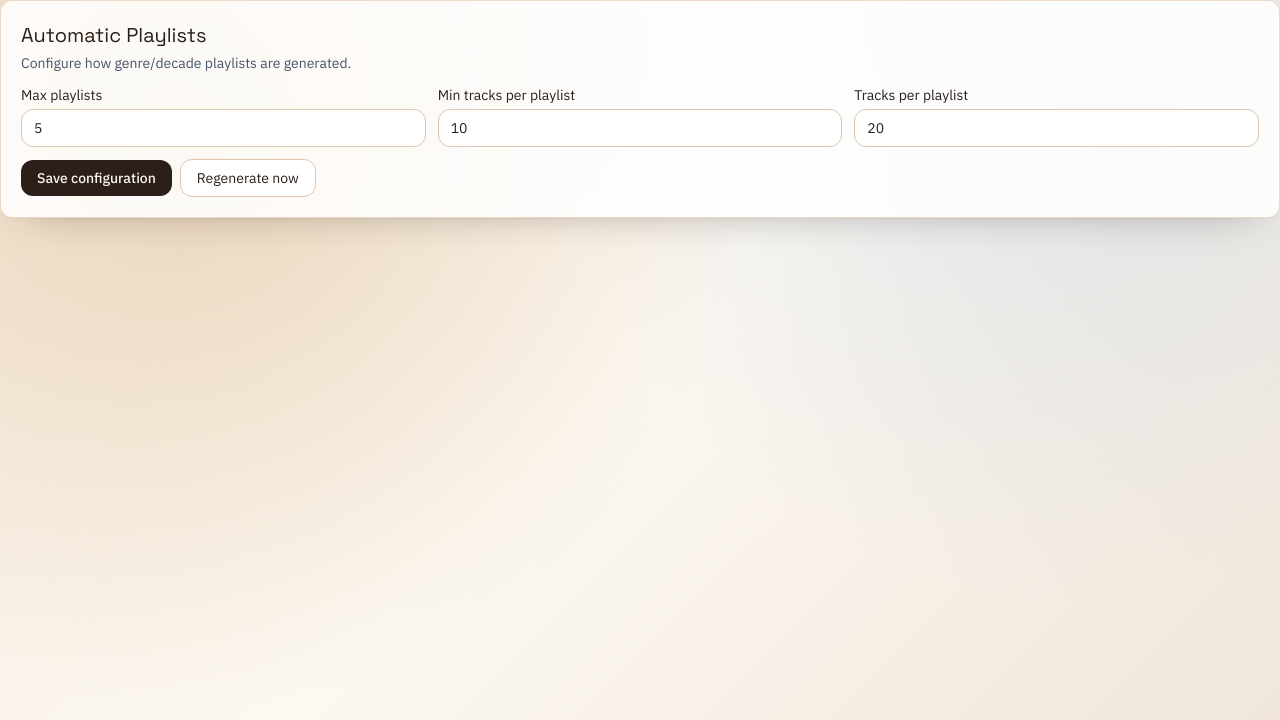
Test case: AutoPlaylistConfigPanel › reports an error when regenerate throws
Expected: the number field showing "5" is shown, [21,109,426,147]
Step 1. Click the button "Regenerate now" → (248, 178), box [180,159,316,197]
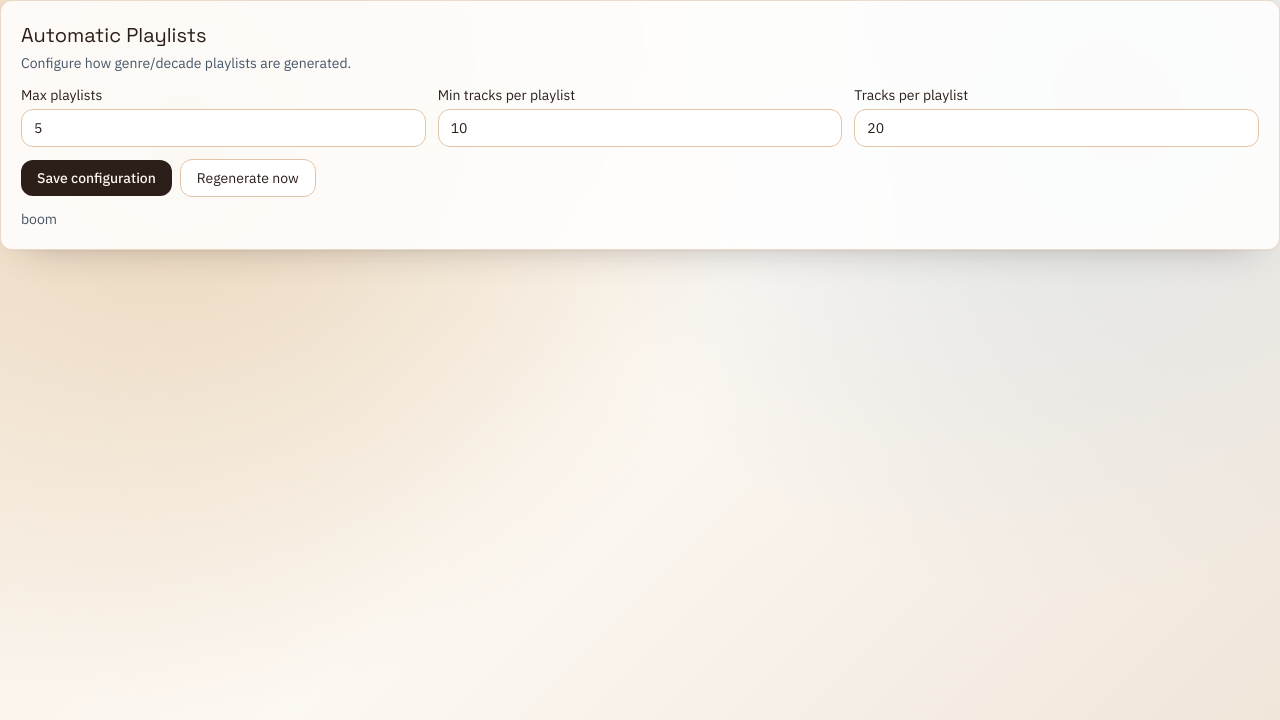
Expected: the text "boom" is shown, [21,210,57,228]
